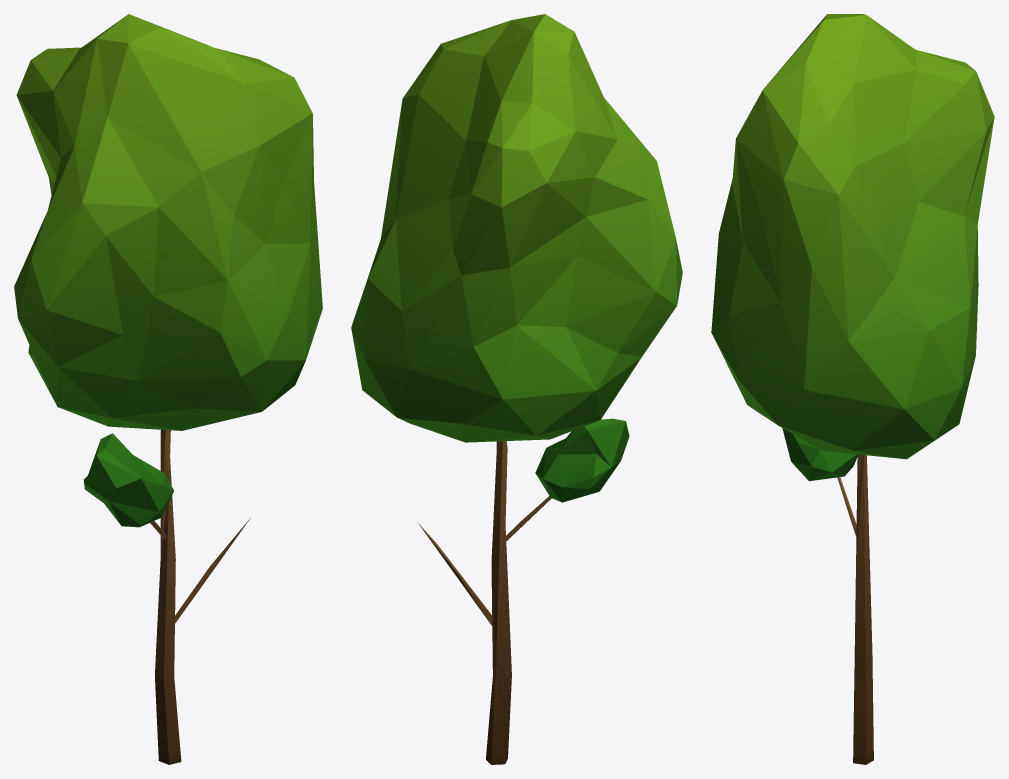
The model's file is Tree_06.fbx.
3 renders of one model, left to right at view 1: azimuth 30°, elevation 25°; view 2: azimuth 150°, elevation 25°; view 3: azimuth 270°, elevation 25°, orthographic. The views are drawn at different scales.
Parts seen in each view (by area): view 1: Tree_06; view 2: Tree_06; view 3: Tree_06.
Part boxes in pixels (x1=…): Tree_06: x1=14, y1=14, x2=322, y2=764; Tree_06: x1=351, y1=14, x2=682, y2=764; Tree_06: x1=711, y1=14, x2=994, y2=764.
Bounding box in the file's own units: 190 × 464 × 164.
